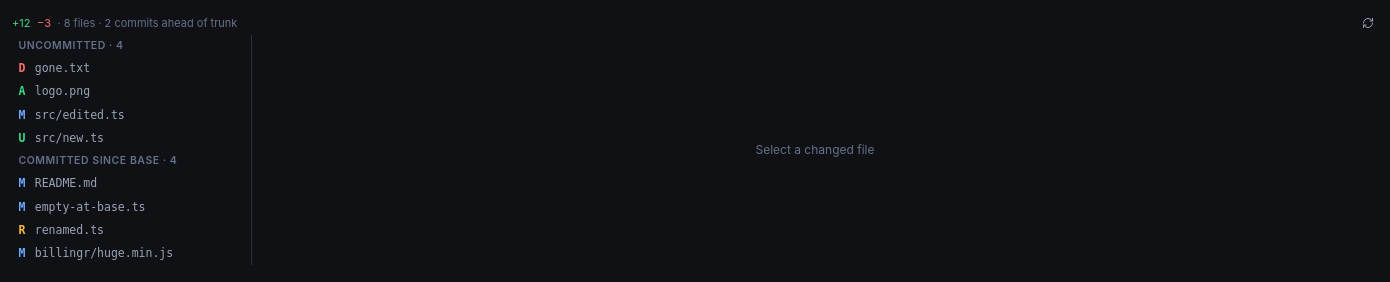
Scenario: auto-refresh (spec §12.5) › rebuilds the editor when the file's text changes under it
Step 1. Click the option "M src/edited.ts" → (132, 115), box [12,104,251,127]
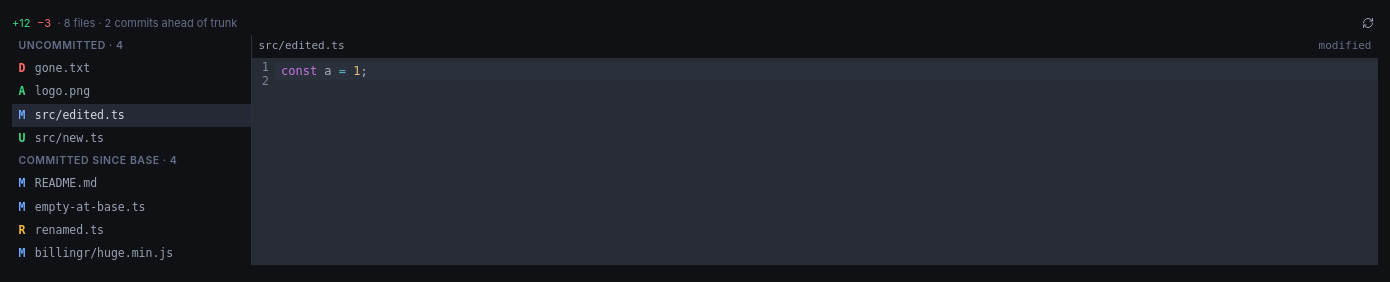
expect the field with class "cm-content" reads "const a = 1;": met, box [275,62,1378,80]
Step 2. Click the button titled "Refresh" → (1368, 23), box [1358,14,1378,33]
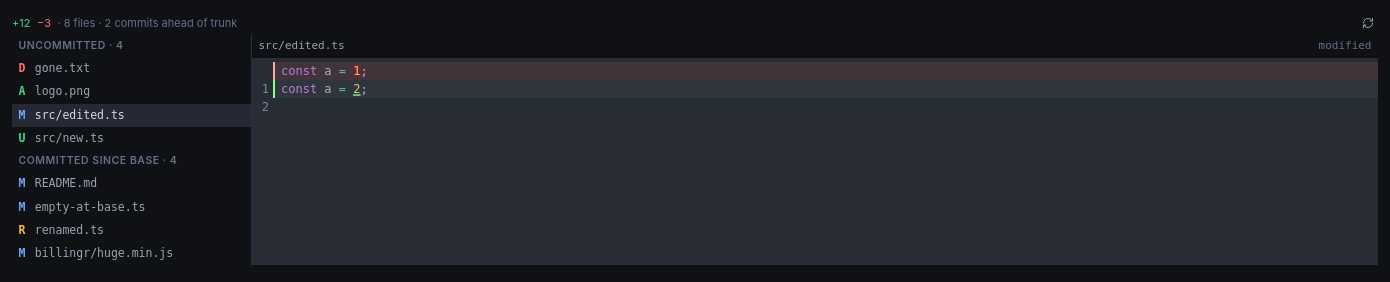
expect the field with class "cm-content" shows "const a = 2;": met, box [275,62,1378,98]
